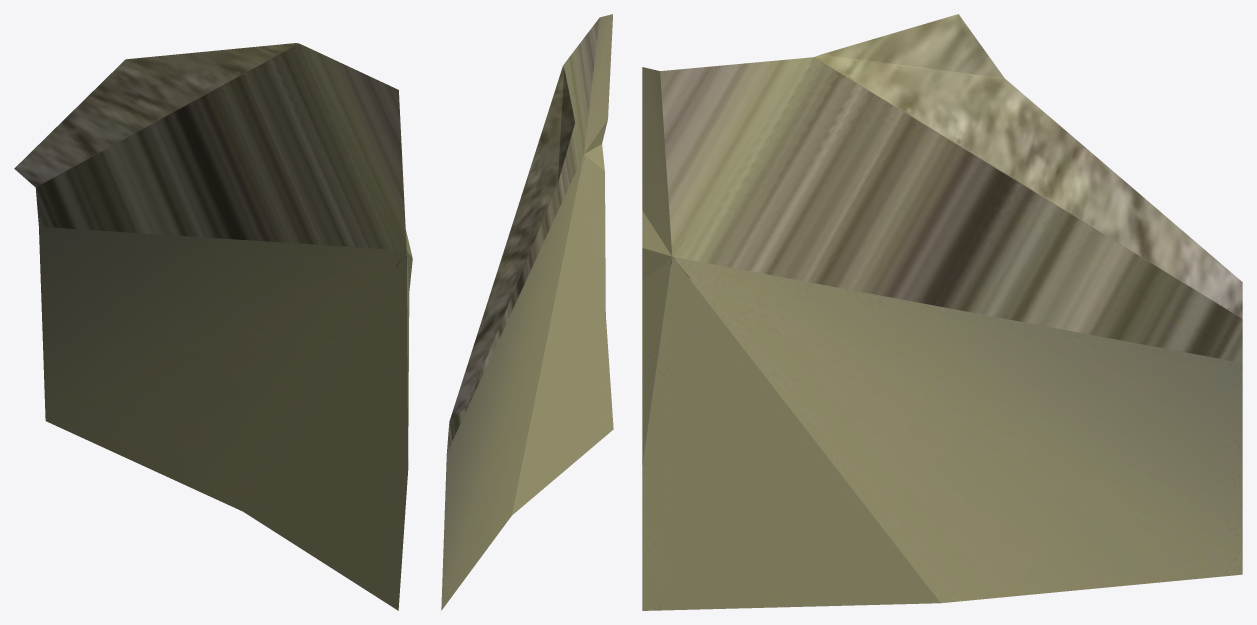
3 views of the same model, side by side, from view 1: azimuth 30°, elevation 25°; view 2: azimuth 150°, elevation 25°; view 3: azimuth 270°, elevation 25° (orthographic). The views are drawn at different scales.
Size of the model in its own units: 0.7461 by 2.95 by 2.95.
2 materials, 2 textured.
